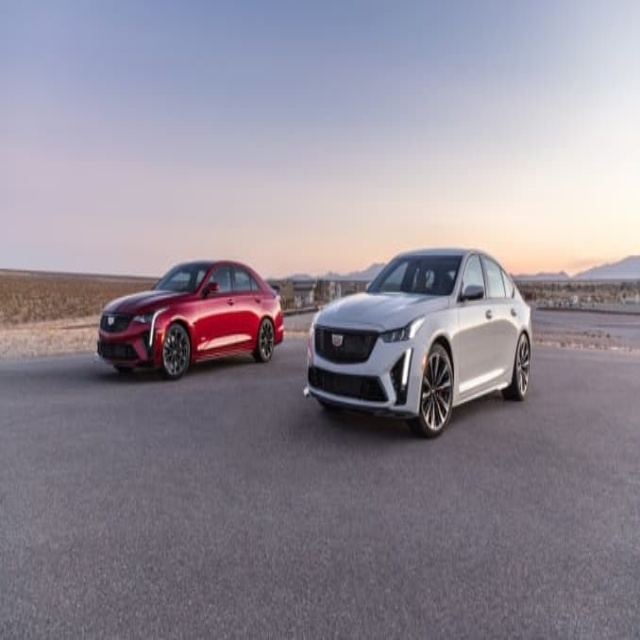Car: (302, 245, 532, 435), (96, 259, 284, 381)
